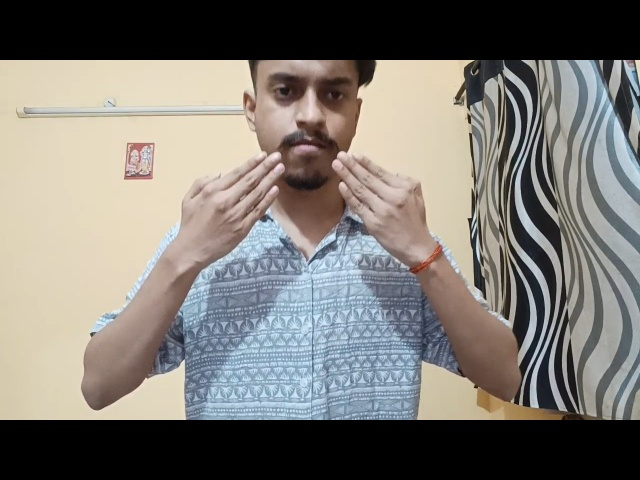Thank you: (169, 144, 436, 316)
